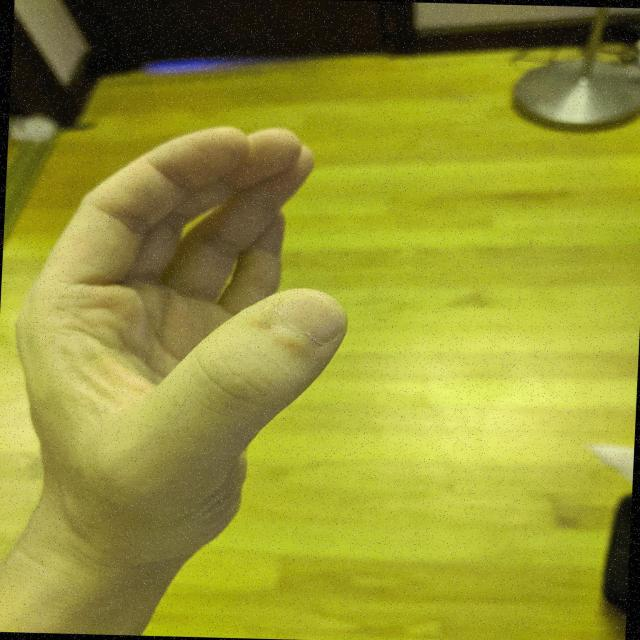C: (0, 114, 366, 559)
